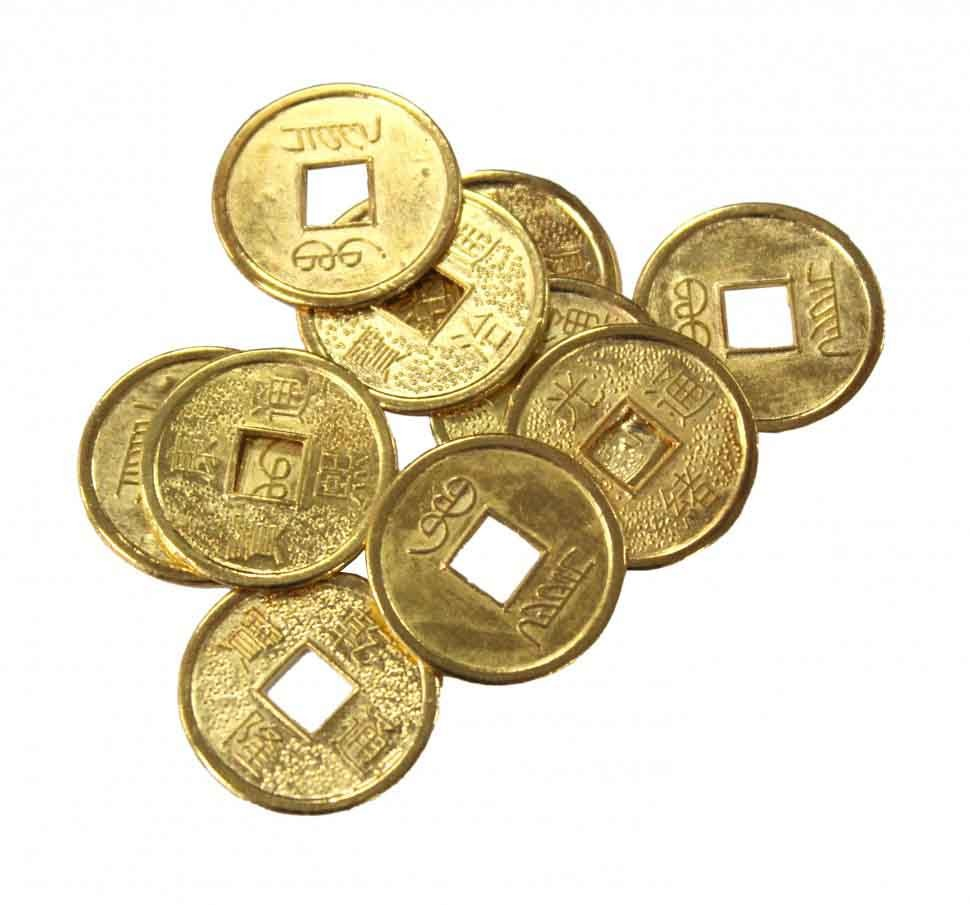coin: (368, 427, 629, 687), (646, 182, 895, 433), (191, 577, 443, 819), (505, 333, 755, 563), (202, 84, 468, 293), (159, 341, 383, 589), (287, 193, 551, 400), (77, 344, 226, 592), (469, 160, 633, 311)
